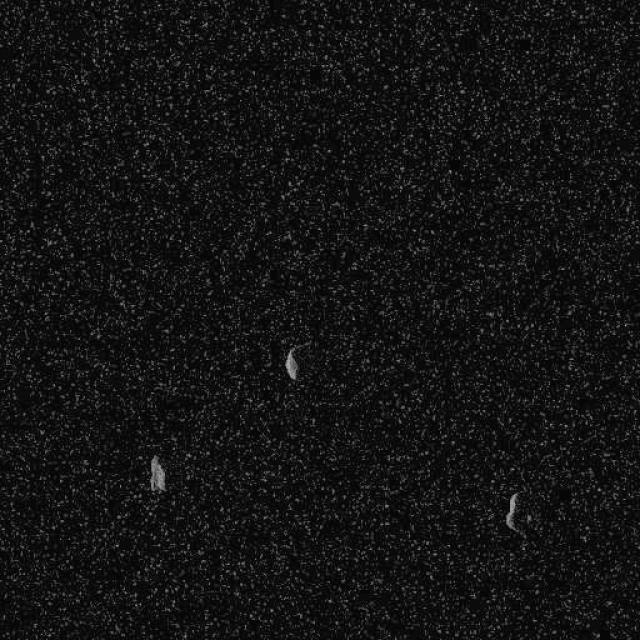D2: (504, 490, 536, 541), (148, 454, 166, 494), (282, 346, 298, 380)
